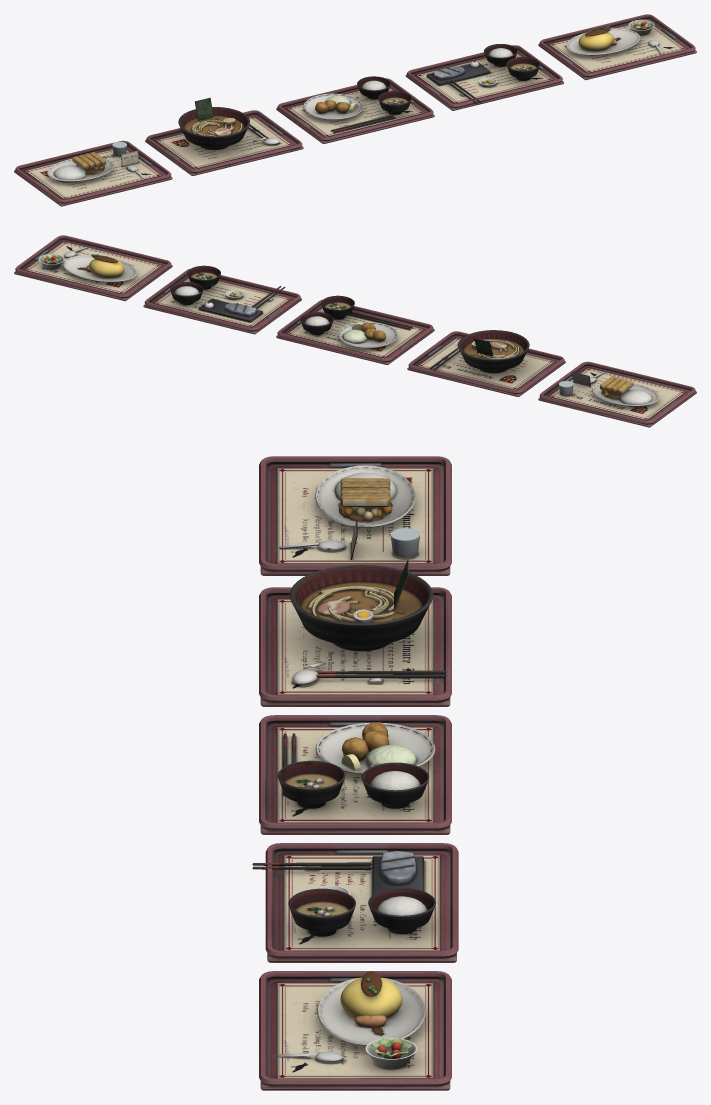
The model's file is ConcessionLunchSets2.fbx.
The picture shows the model from 3 angles, top to bottom: view 1: azimuth 30°, elevation 25°; view 2: azimuth 150°, elevation 25°; view 3: azimuth 270°, elevation 25°; orthographic projection. The views are drawn at different scales.
Visible parts, largest first — view 1: ConcessionLunchSets2_ShoyuRamen, ConcessionLunchSets2_MackerelSet, ConcessionLunchSets2_KaraageSet, ConcessionLunchSets2_KatsuCurry, ConcessionLunchSets2_Omurice; view 2: ConcessionLunchSets2_ShoyuRamen, ConcessionLunchSets2_KaraageSet, ConcessionLunchSets2_MackerelSet, ConcessionLunchSets2_KatsuCurry, ConcessionLunchSets2_Omurice; view 3: ConcessionLunchSets2_ShoyuRamen, ConcessionLunchSets2_MackerelSet, ConcessionLunchSets2_KaraageSet, ConcessionLunchSets2_Omurice, ConcessionLunchSets2_KatsuCurry.
Part boxes in pixels (x1,y1,x2,y2): ConcessionLunchSets2_ShoyuRamen: [145, 97, 303, 175]; ConcessionLunchSets2_MackerelSet: [405, 44, 564, 110]; ConcessionLunchSets2_KaraageSet: [276, 76, 434, 143]; ConcessionLunchSets2_KatsuCurry: [14, 140, 172, 206]; ConcessionLunchSets2_Omurice: [538, 14, 696, 80]; ConcessionLunchSets2_ShoyuRamen: [407, 330, 565, 396]; ConcessionLunchSets2_KaraageSet: [276, 295, 434, 364]; ConcessionLunchSets2_MackerelSet: [143, 265, 301, 334]; ConcessionLunchSets2_KatsuCurry: [538, 361, 696, 427]; ConcessionLunchSets2_Omurice: [14, 235, 172, 301]; ConcessionLunchSets2_ShoyuRamen: [259, 559, 451, 706]; ConcessionLunchSets2_MackerelSet: [252, 843, 458, 962]; ConcessionLunchSets2_KaraageSet: [259, 715, 451, 834]; ConcessionLunchSets2_Omurice: [259, 971, 451, 1090]; ConcessionLunchSets2_KatsuCurry: [259, 456, 451, 575].
Size of the model in its own units: 738 by 42.9 by 103.
